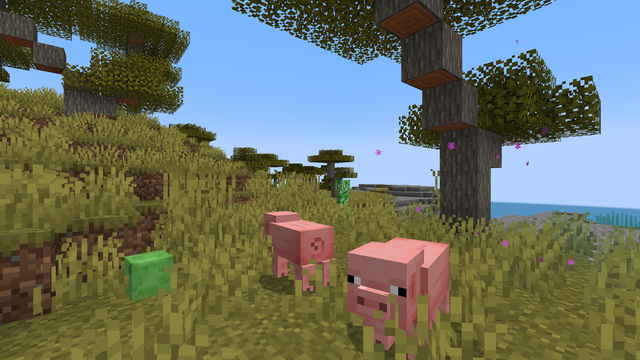cochons: (348, 234, 469, 352), (262, 217, 337, 293)
creepers: (333, 178, 351, 215)
slimes: (125, 248, 172, 302)
